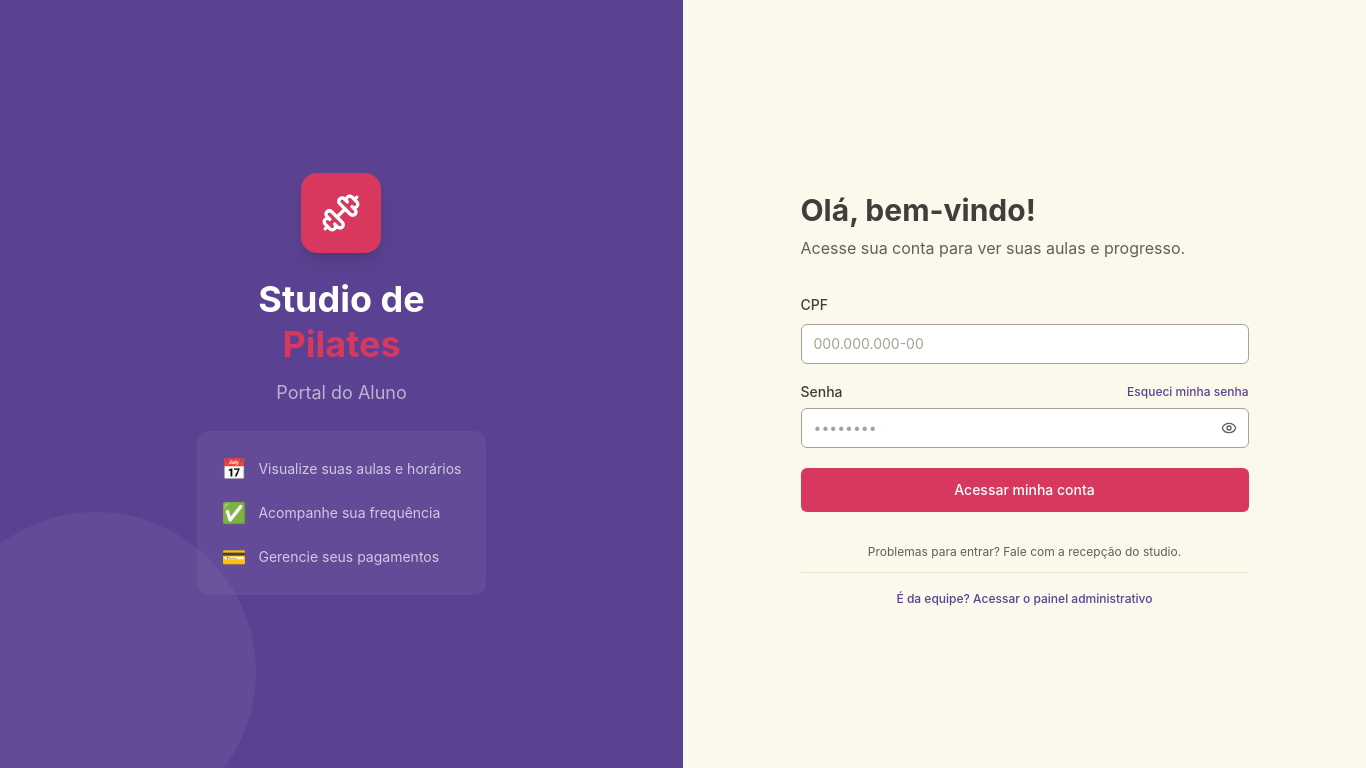
Test case: AlunoLoginPage › exibe erro de validação para CPF com formato inválido
Click the button "Acessar minha conta" at (1024, 490), box [800,468,1248,512]
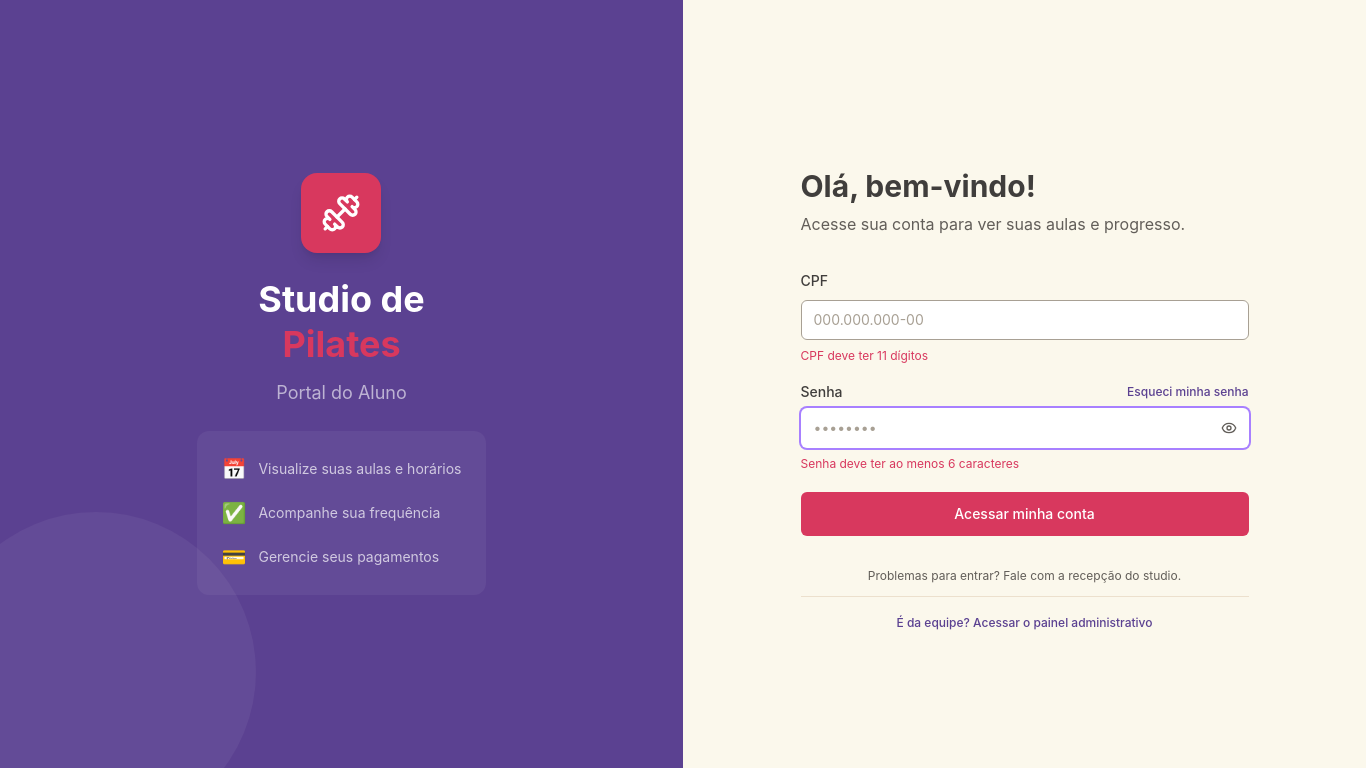
Result: the text "CPF deve ter 11 dígitos" is shown at [800,348,928,362]
